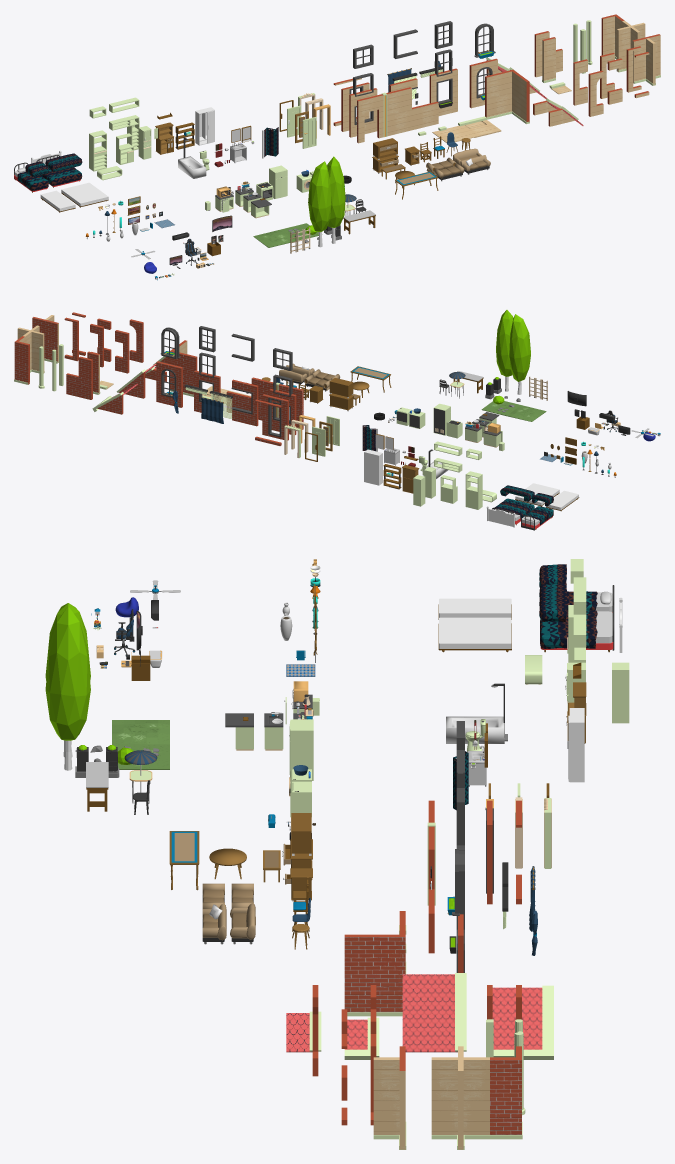
File: Home_Set_LeoVNB.fbx
3 views of the same model, one above another, from view 1: azimuth 30°, elevation 25°; view 2: azimuth 150°, elevation 25°; view 3: azimuth 270°, elevation 25° (orthographic). The views are drawn at different scales.
Visible parts, largest first — view 1: Wall Standard (Corner) Alt, Big Tree 2, Wall Standard 1x3 X3, Wall Standard, Big Tree 1, Wall Standard (Door), Wall Standard 1x3 X, Bed Base 1 (2), Wall Standard (Window 3), Wall Standard 1x3 (Corner), Wall Standard (Window 1), Drawer 1 (+22 smaller); view 2: Big Tree 2, Big Tree 1, Wall Standard (Corner) Alt, Wall Standard 1x3 X3, Wall Standard (Window 4), Wall Standard 1x3 X, Wall Standard (Window 2), Wall Standard 1x3 (Corner), Wardrobe, Wall Standard (Window 5), Drawer 1, Wall Standard 1x3 (+26 smaller); view 3: Big Tree 1, Wall Standard (Corner) Alt, Wall Standard 1x3 X, Roof 45deg, Wall Standard 1x3 X3, Roof, Wall Standard 1x3 (Corner), Bed Base 1 (2), Bed Base 1 (1), Terrain 2, Bed (2) Sheets, Wardrobe (+11 smaller).
Boxes of the visible parts, x1,y1,x2,y2 form: Wall Standard (Corner) Alt: (485, 69, 529, 121); Big Tree 2: (308, 161, 331, 247); Wall Standard 1x3 X3: (632, 34, 660, 85); Wall Standard: (386, 87, 411, 136); Big Tree 1: (327, 156, 345, 243); Wall Standard (Door): (357, 94, 383, 143); Wall Standard 1x3 X: (617, 20, 645, 71); Bed Base 1 (2): (61, 182, 108, 207); Wall Standard (Window 3): (429, 68, 457, 115); Wall Standard 1x3 (Corner): (601, 14, 624, 56); Wall Standard (Window 1): (349, 88, 377, 137); Drawer 1: (89, 130, 106, 171); Big Tree 2: (509, 314, 530, 394); Big Tree 1: (496, 310, 513, 391); Wall Standard (Corner) Alt: (169, 340, 197, 394); Wall Standard 1x3 X3: (32, 315, 58, 362); Wall Standard (Window 4): (156, 361, 182, 407); Wall Standard 1x3 X: (17, 325, 44, 373); Wall Standard (Window 2): (232, 379, 258, 426); Wall Standard 1x3 (Corner): (14, 336, 29, 384); Wardrobe: (364, 449, 382, 485); Wall Standard (Window 5): (262, 394, 288, 440); Drawer 1: (465, 471, 482, 509); Wall Standard 1x3: (78, 356, 92, 399); Big Tree 1: (45, 606, 90, 770); Wall Standard (Corner) Alt: (344, 911, 405, 1012); Wall Standard 1x3 X: (431, 1046, 489, 1149); Roof 45deg: (402, 974, 457, 1052); Wall Standard 1x3 X3: (373, 1046, 405, 1149); Roof: (492, 987, 542, 1049); Wall Standard 1x3 (Corner): (490, 1046, 521, 1134); Bed Base 1 (2): (438, 617, 511, 652); Bed Base 1 (1): (438, 598, 511, 619); Terrain 2: (112, 720, 169, 744); Bed (2) Sheets: (540, 610, 597, 648); Wardrobe: (569, 708, 584, 782).
Bounding box in the file's own units: 4461 × 673 × 2008.
